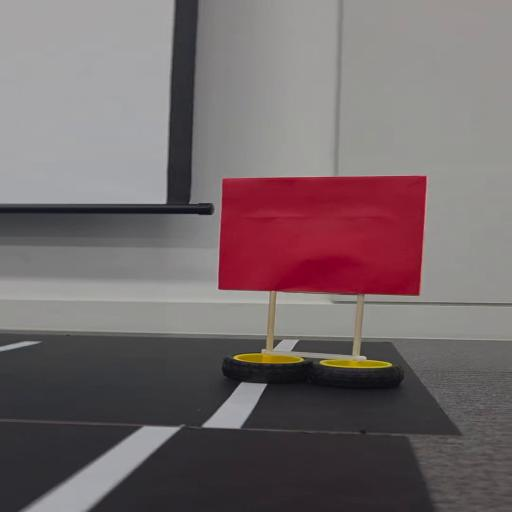Sign_A: (212, 170, 439, 396)
